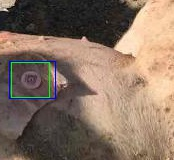text: (11, 62, 49, 97)
